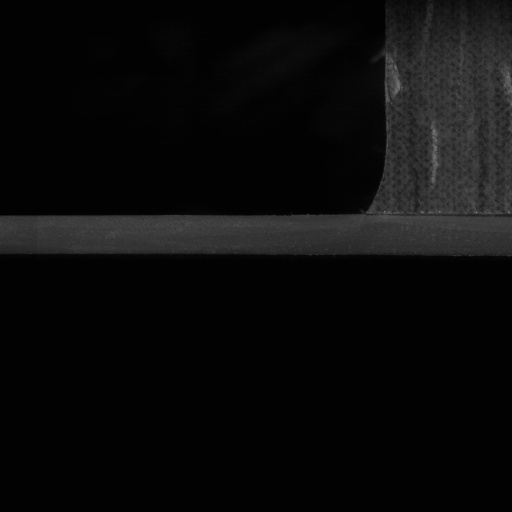changdai: (0, 211, 365, 259)
